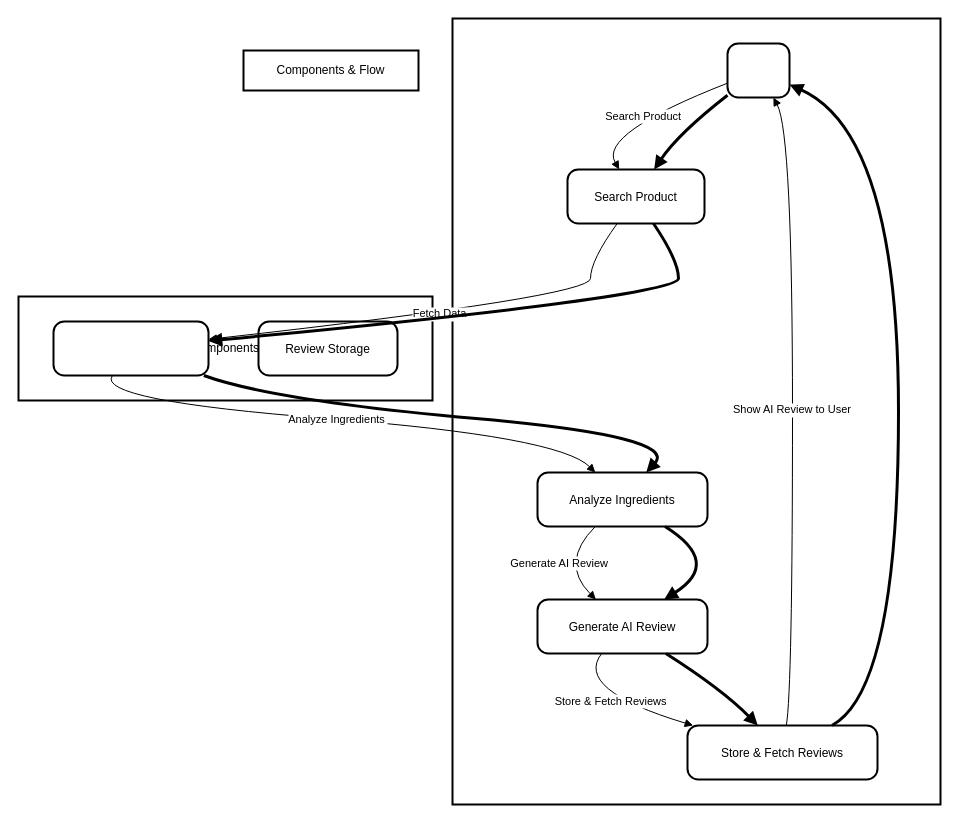
This 958x822 diagram has some shape labels left out. The box of each missing label's shape, as (x1, y1, x2, y2) in pixels:
NutriScan – AI-Powered Food Analyzer: (451, 17, 941, 805)
Product Database: (52, 320, 209, 376)
User: (726, 42, 790, 98)
